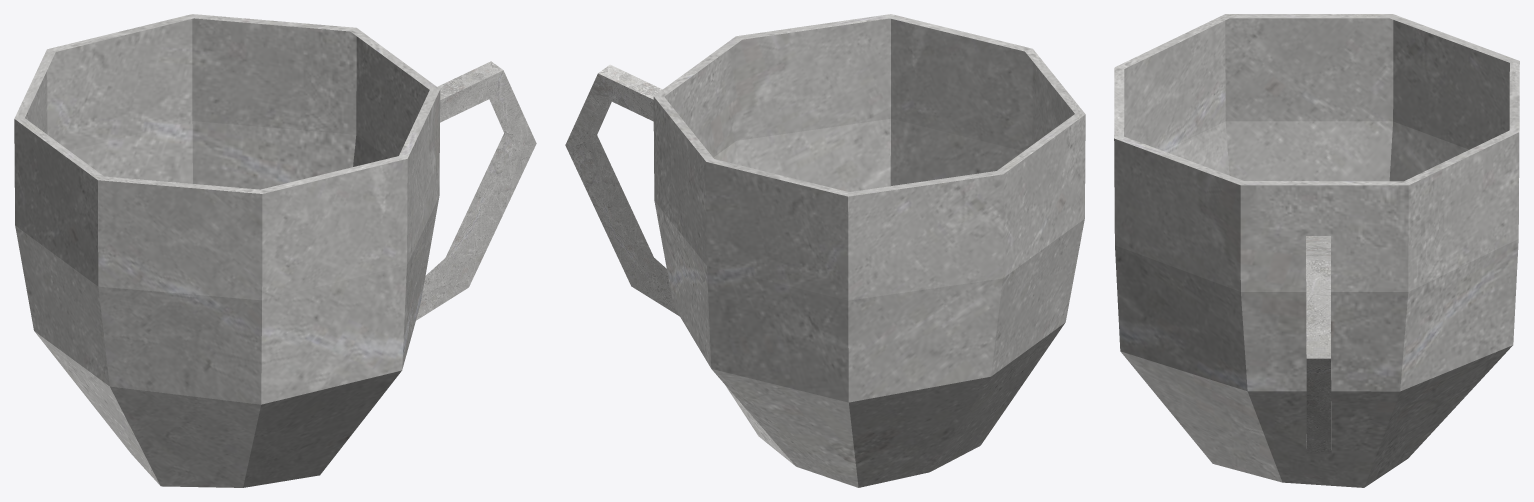
The model's file is Small Cup.fbx.
The picture shows the model from 3 angles, left to right: view 1: azimuth 30°, elevation 25°; view 2: azimuth 150°, elevation 25°; view 3: azimuth 270°, elevation 25°; orthographic projection. The views are drawn at different scales.
Visible parts, largest first — view 1: luar, luar.001, gagang; view 2: luar, luar.001, gagang; view 3: luar, luar.001, gagang.
Boxes of the visible parts, <box> form: luar: <box>14,14,440,487</box>; luar.001: <box>14,15,439,487</box>; gagang: <box>416,61,536,320</box>; luar: <box>653,14,1085,487</box>; luar.001: <box>653,14,1085,487</box>; gagang: <box>565,64,679,316</box>; luar: <box>1114,14,1519,487</box>; luar.001: <box>1114,14,1519,487</box>; gagang: <box>1306,236,1331,453</box>.
Bounding box in the file's own units: 2.35 × 1.61 × 1.72.
